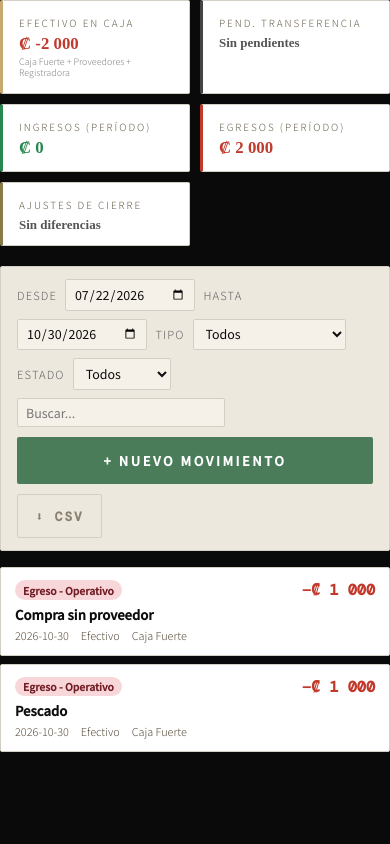
Test case: CashMovimientos · buscador con supplier_name/employee_name NULL › no revienta al tipear con un movimiento de nombres null, y filtra por descripción
Type "compra" into the field with placeholder "Buscar..." at point(121, 413), box [17, 398, 225, 427]
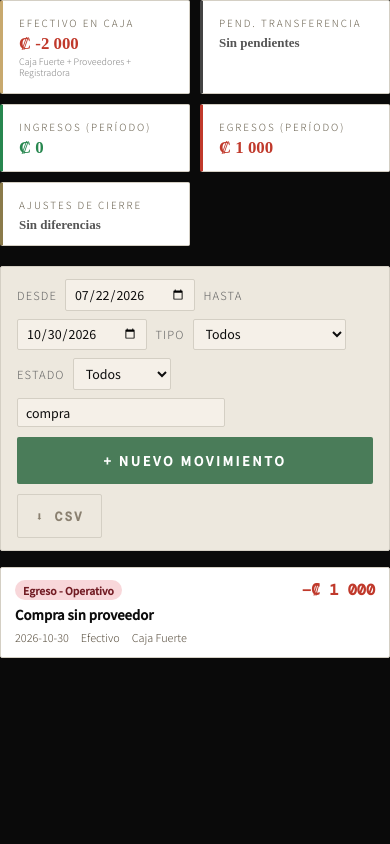
Expected: the text "Compra sin proveedor" is shown, [15, 605, 154, 624]
Expected: the text "Pescado" is gone
